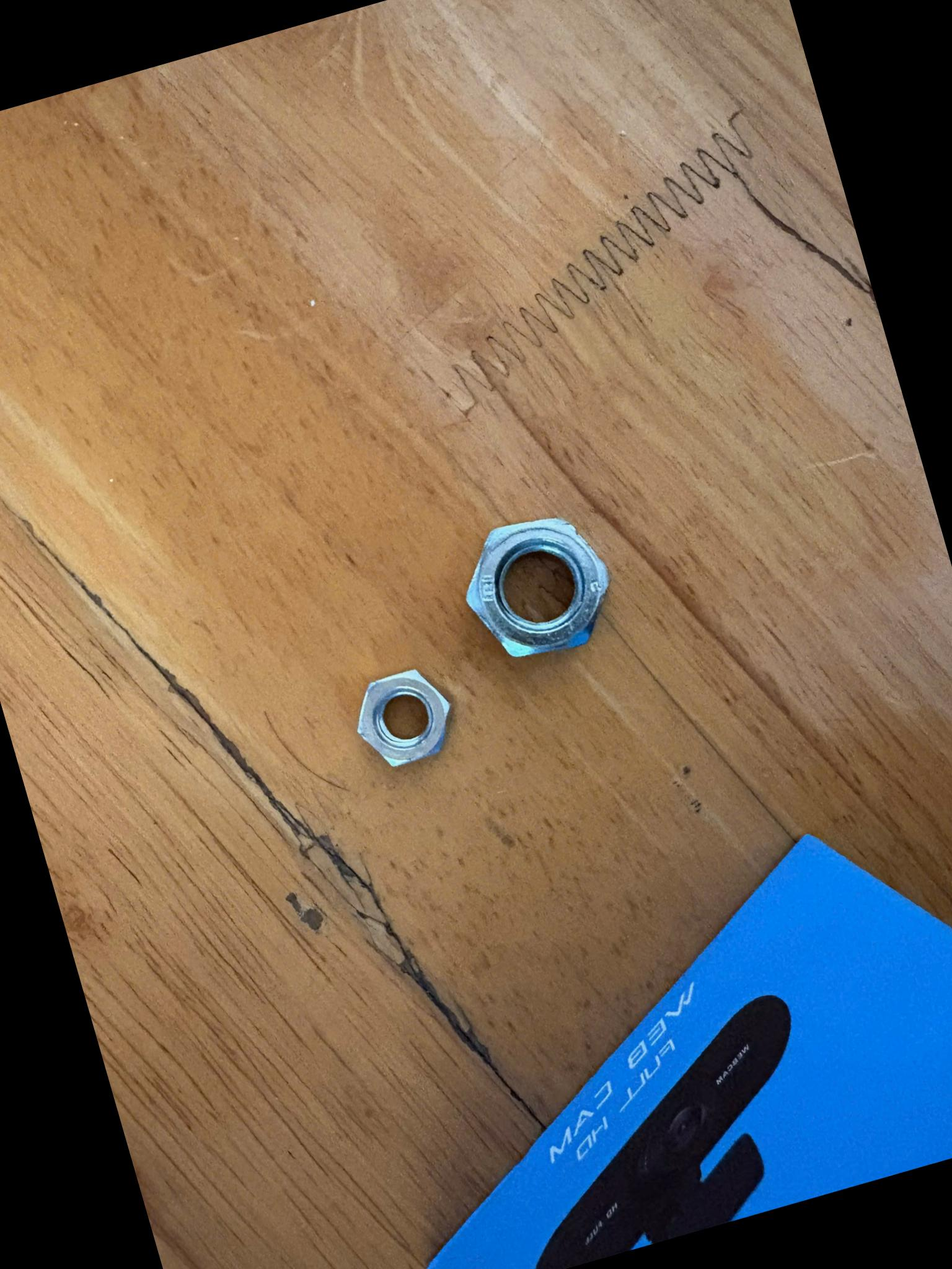nut: (442, 490, 632, 697), (335, 662, 467, 793)
